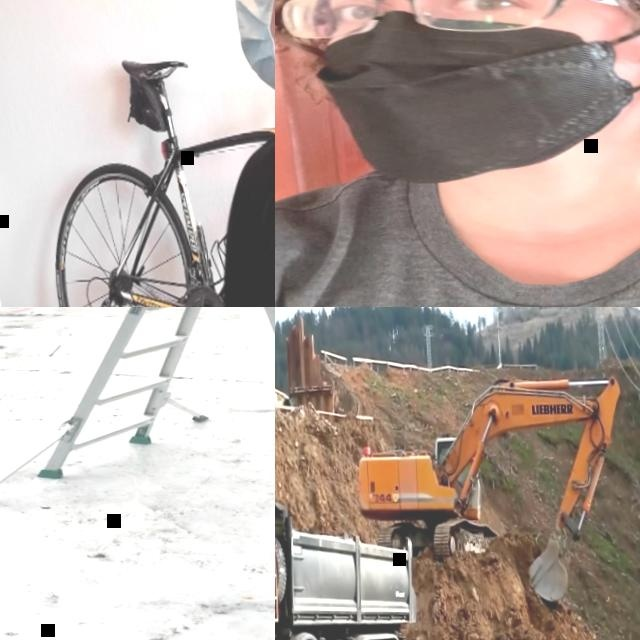Mask: (305, 0, 640, 191), (229, 0, 275, 110)
NO-Safety Vest: (275, 136, 640, 307)
Person: (275, 0, 640, 307), (156, 0, 275, 307)
machinery: (350, 364, 631, 612), (275, 491, 422, 640)
